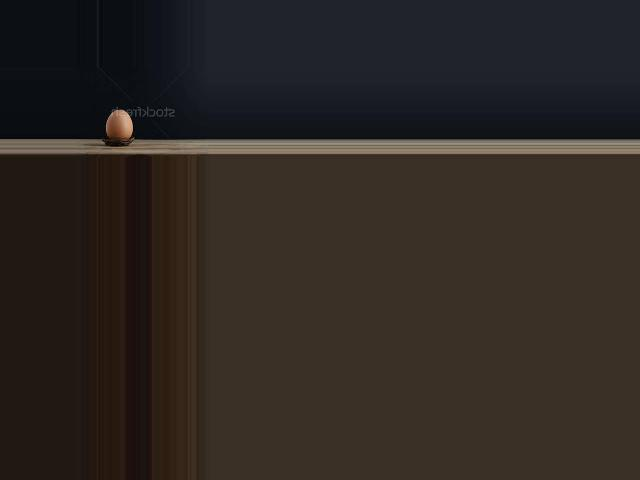egg: (105, 110, 132, 139)
